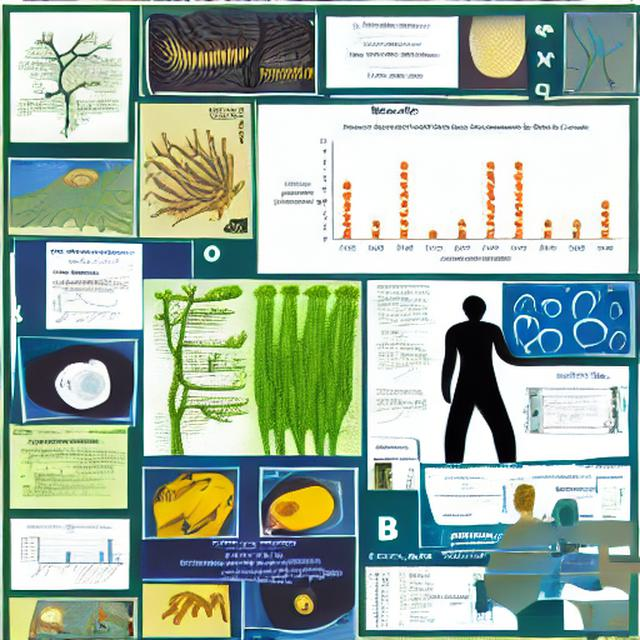Graph: (259, 119, 624, 271), (17, 523, 124, 587), (48, 287, 121, 327), (251, 56, 315, 93), (370, 388, 429, 422)
